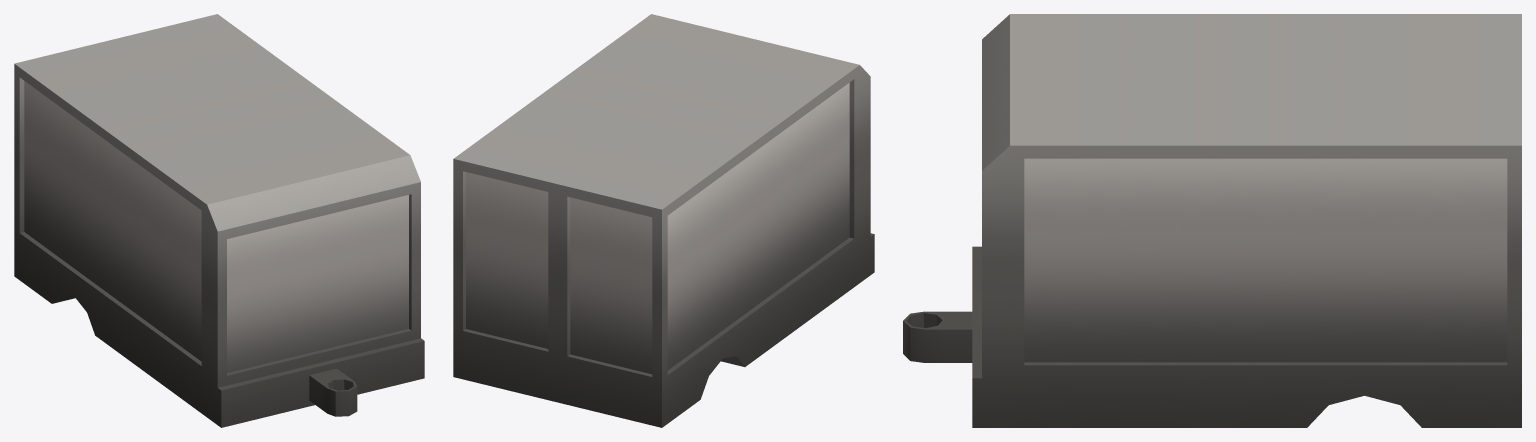
File: Truck_Trailer.fbx
3 views of the same model, side by side, from view 1: azimuth 30°, elevation 25°; view 2: azimuth 150°, elevation 25°; view 3: azimuth 270°, elevation 25° (orthographic). The views are drawn at different scales.
Parts seen in each view (by area): view 1: pCube132; view 2: pCube132; view 3: pCube132.
Boxes of the visible parts, x1,y1,x2,y2 form: pCube132: (14,14,424,427); pCube132: (453,14,874,427); pCube132: (903,14,1521,427).
Size of the model in its own units: 217 by 217 by 431.
